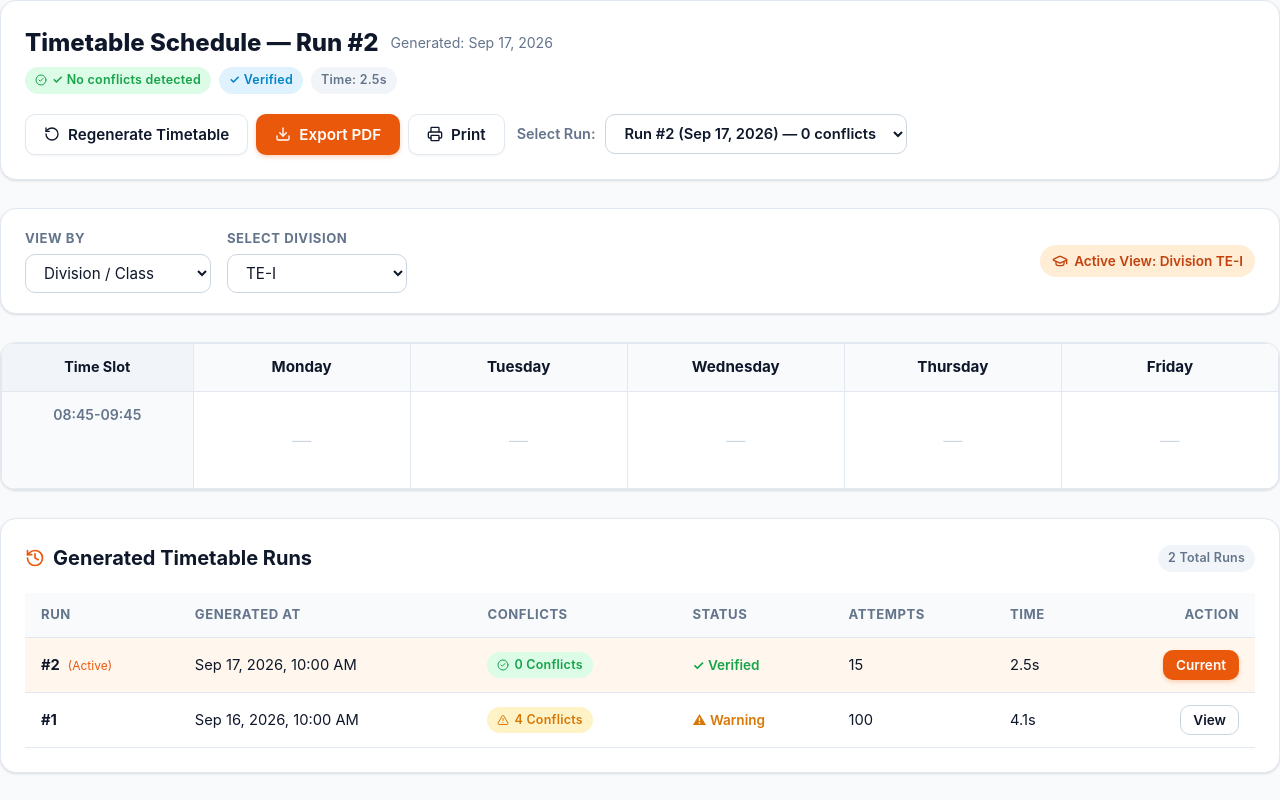
Test: Redesigned Timetable Viewer Component › 13. Switching runs via History Table View button updates active run
Click the button with test id "view-run-btn-1" at (1210, 720), box [1180,705,1239,735]
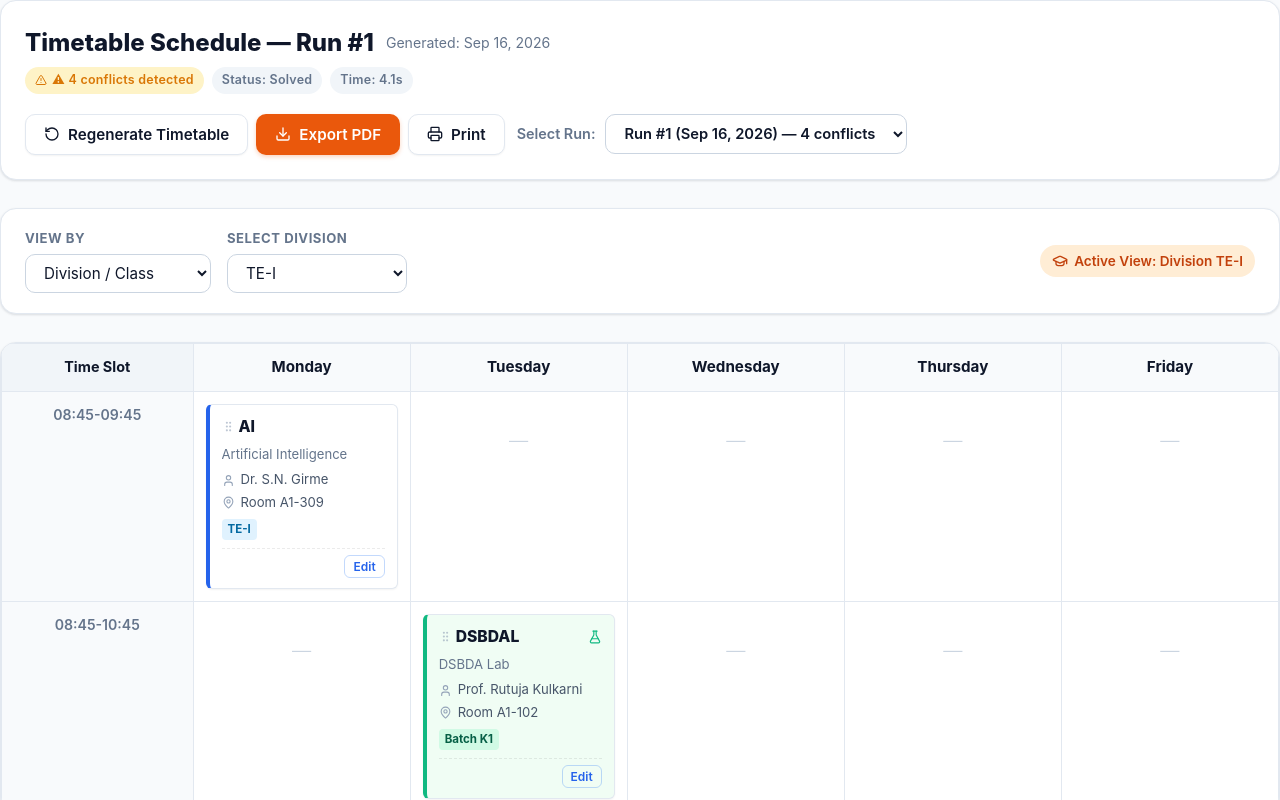
Expected: the heading "Timetable Schedule — Run #1" is shown, [25,25,374,61]
